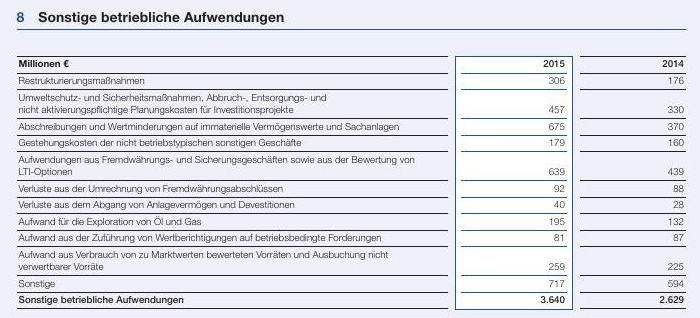table: (0, 0, 700, 318)
